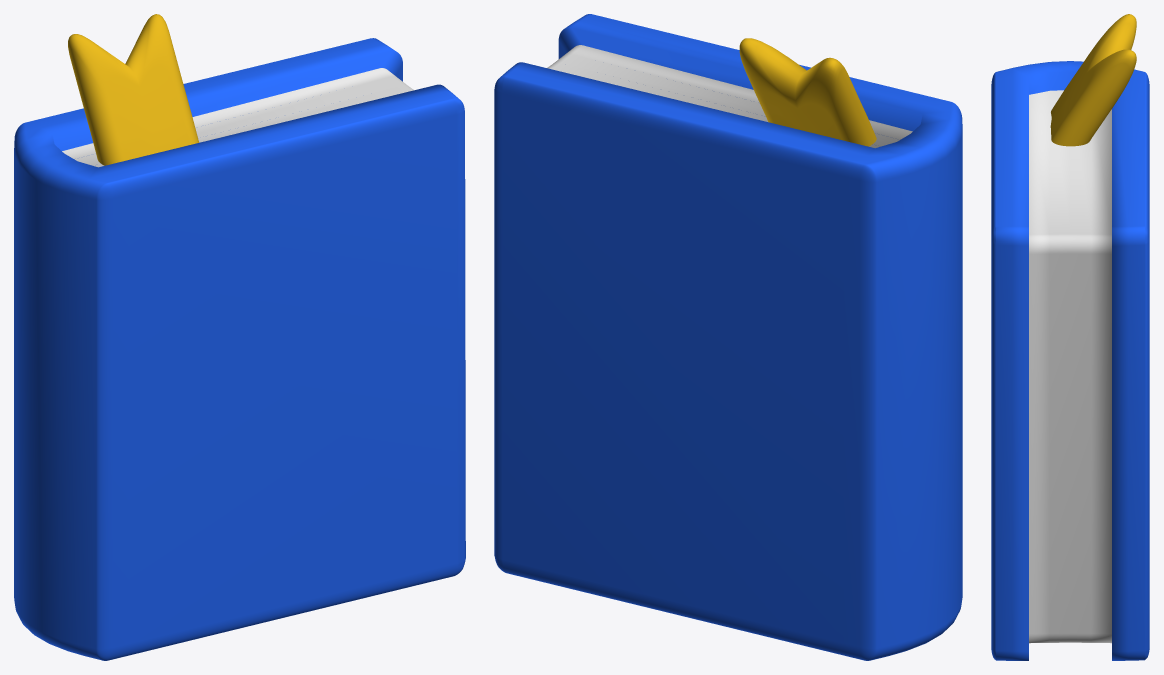
File: book.glb
The picture shows the model from 3 angles, left to right: view 1: azimuth 30°, elevation 25°; view 2: azimuth 150°, elevation 25°; view 3: azimuth 270°, elevation 25°; orthographic projection. The views are drawn at different scales.
Visible parts, largest first — view 1: Cube004_1, Cube004, Cube004_2; view 2: Cube004_1, Cube004, Cube004_2; view 3: Cube004_1, Cube004_2, Cube004.
Boxes of the visible parts, box(x1,y1,x2,y2) form: Cube004_1: box(14, 38, 465, 660); Cube004: box(68, 14, 198, 165); Cube004_2: box(62, 68, 413, 167); Cube004_1: box(494, 14, 962, 660); Cube004: box(739, 38, 876, 146); Cube004_2: box(547, 45, 912, 148); Cube004_1: box(991, 61, 1149, 660); Cube004_2: box(1029, 90, 1111, 643); Cube004: box(1050, 14, 1136, 146).
Size of the model in its own units: 1.63 by 2.21 by 0.6227.
